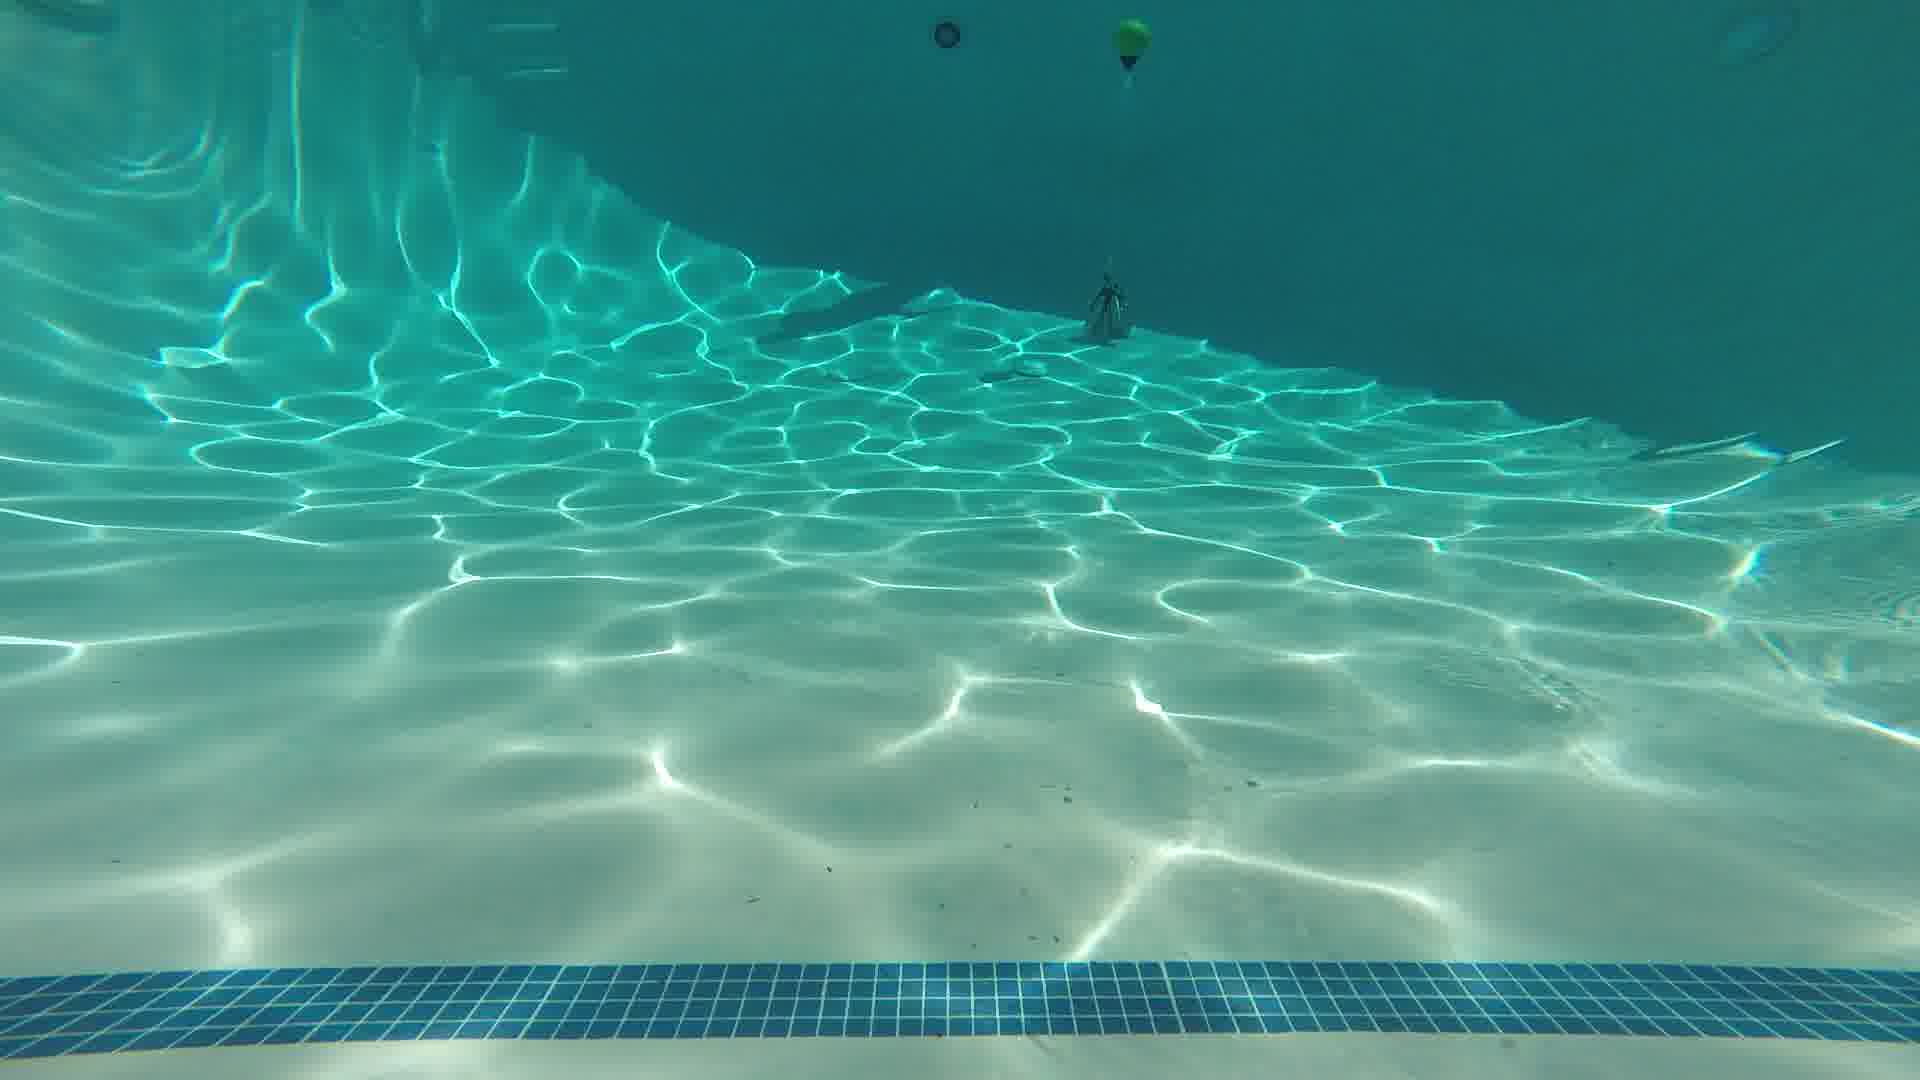yellow_buoy: (1114, 18, 1150, 71)
